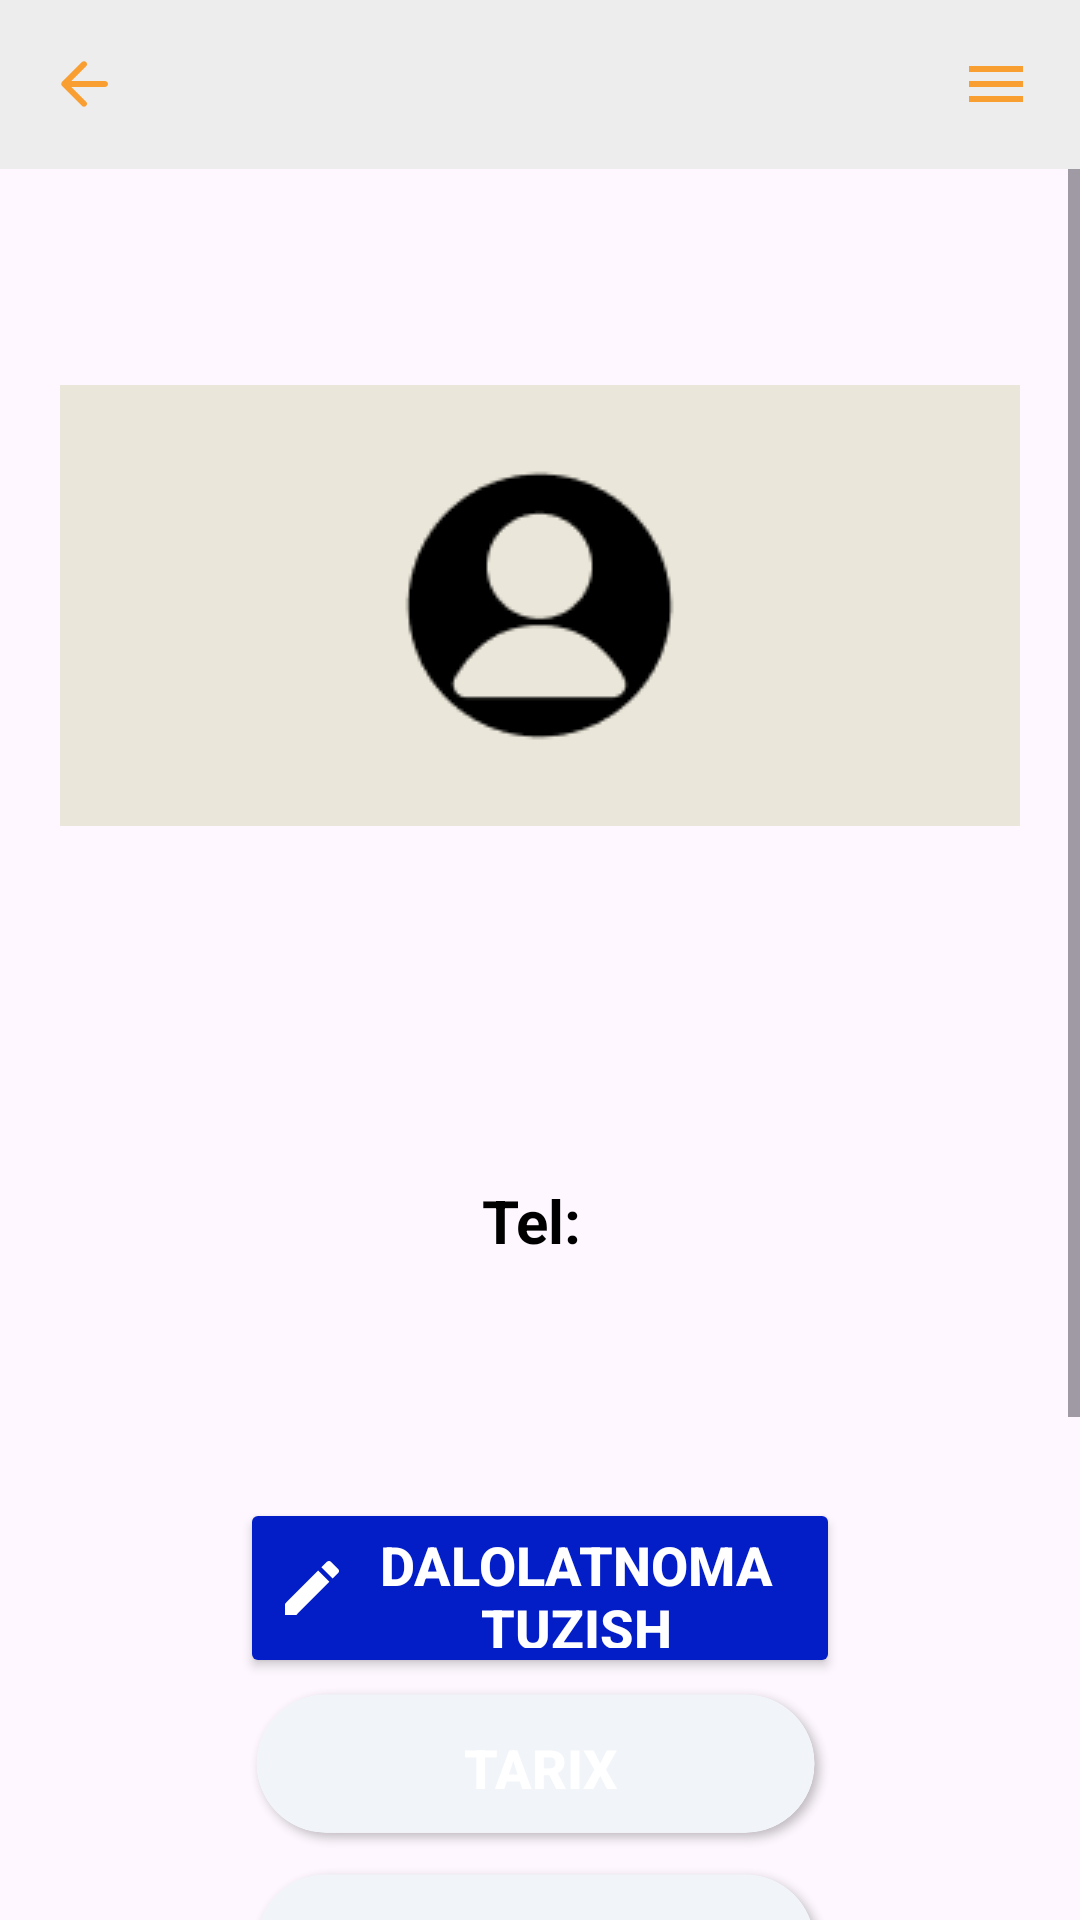

Point at icon controls on the screen. Image size 1080 x 1920, points as point (x, y).
back: point (84, 84)
menu: point (996, 84)
